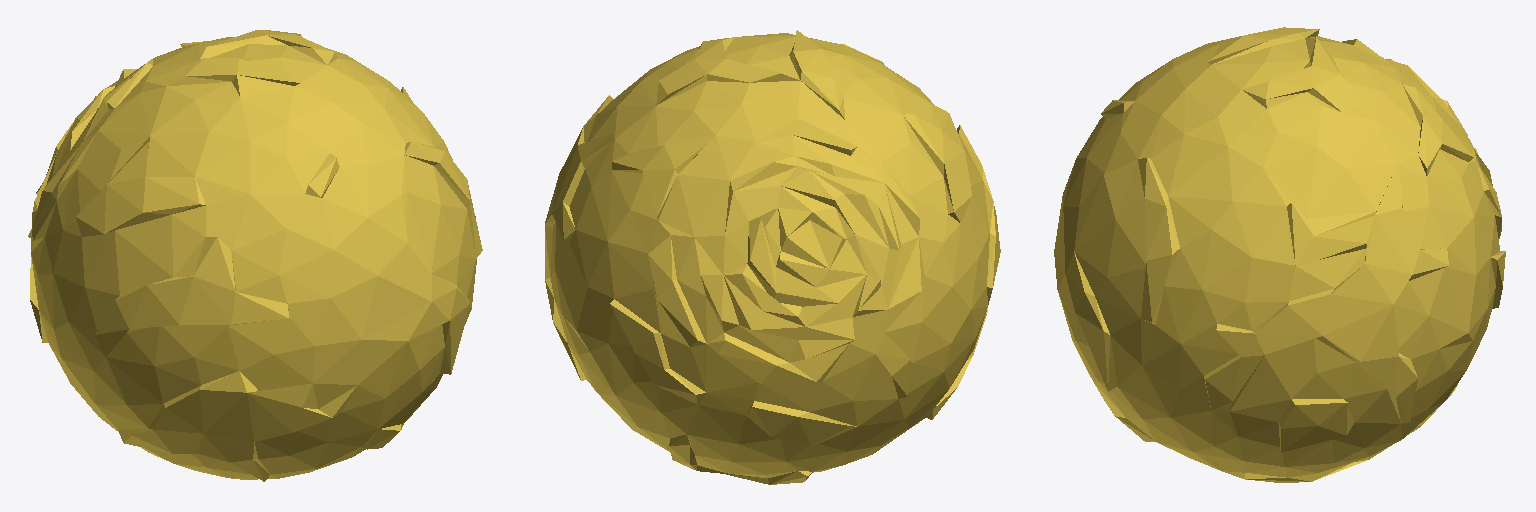
File: mars_scaled.obj
3 renders of one model, left to right at view 1: azimuth 30°, elevation 25°; view 2: azimuth 150°, elevation 25°; view 3: azimuth 270°, elevation 25°, orthographic.
Visible parts, largest first — view 1: Mars; view 2: Mars; view 3: Mars.
Part boxes in pixels (bbox=[...]): Mars: bbox=[28, 30, 482, 481]; Mars: bbox=[545, 30, 1000, 484]; Mars: bbox=[1054, 27, 1505, 482].
Size of the model in its own units: 10.01 by 10.09 by 10.02.